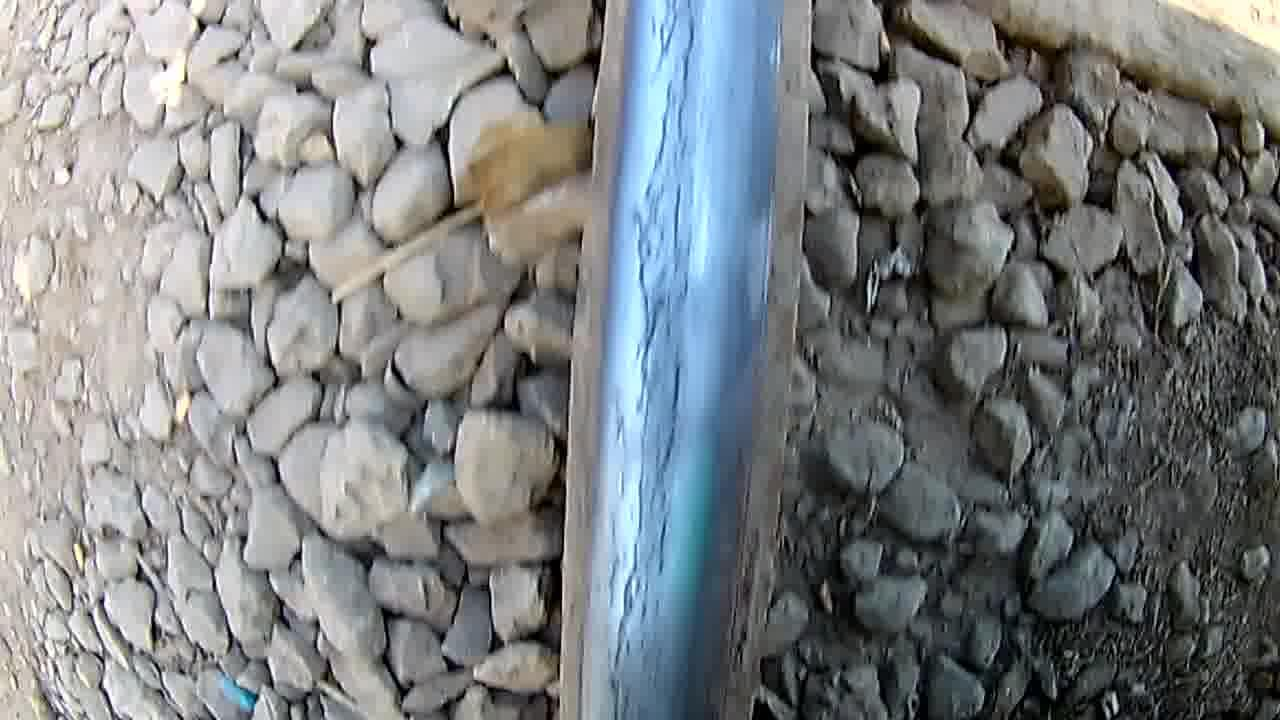normal_track: (600, 3, 724, 720)
